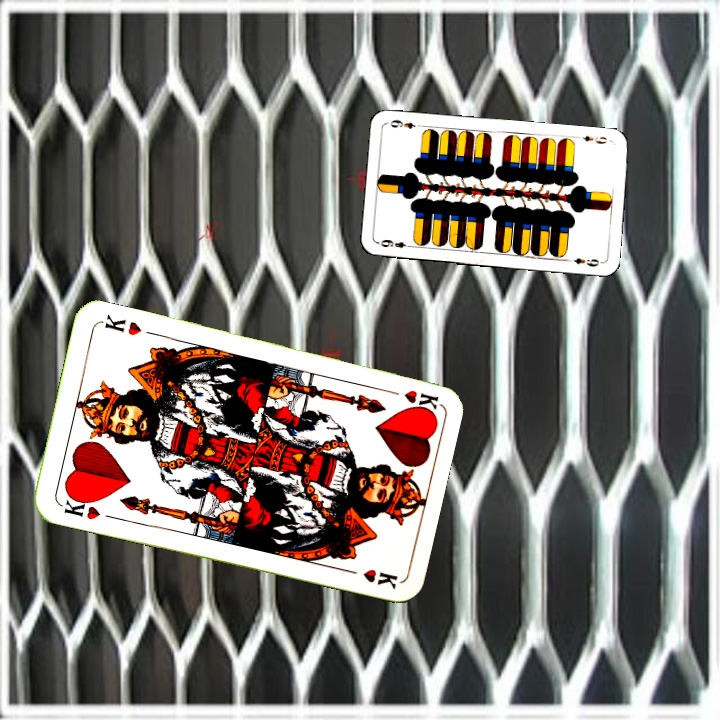E9: (377, 235, 415, 251), (573, 131, 613, 146)
HK: (380, 385, 440, 412), (56, 491, 103, 523)
